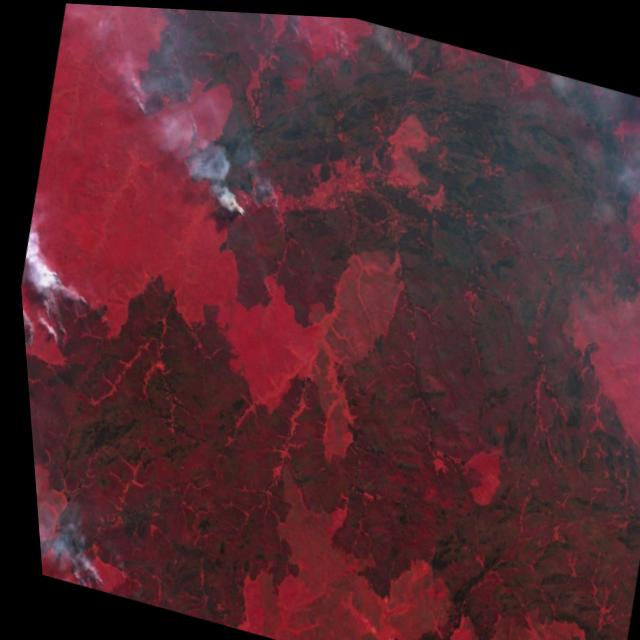fire: (93, 4, 326, 237), (14, 241, 115, 387), (30, 509, 111, 593)
